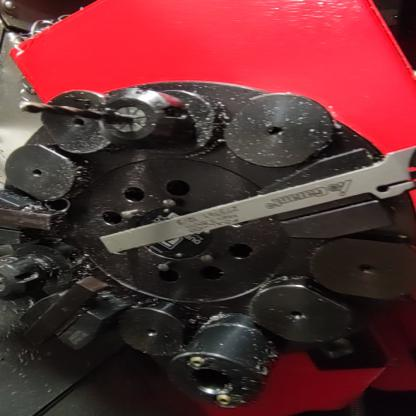bit: (90, 140, 416, 259), (3, 270, 148, 359)
